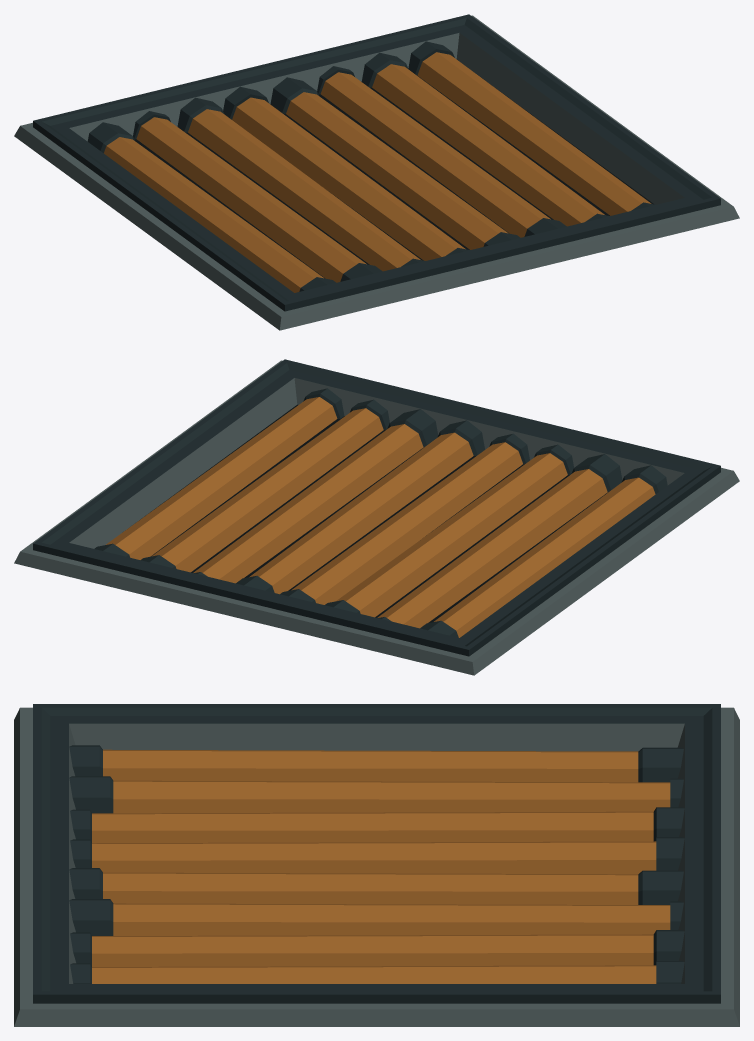
File: RoofTile_Pipes1.obj
The picture shows the model from 3 angles, top to bottom: view 1: azimuth 30°, elevation 25°; view 2: azimuth 150°, elevation 25°; view 3: azimuth 270°, elevation 25°; orthographic projection. The views are drawn at different scales.
Parts seen in each view (by area): view 1: RoofTile_Pipes1; view 2: RoofTile_Pipes1; view 3: RoofTile_Pipes1.
Boxes of the visible parts, left/top/right/bottom form: RoofTile_Pipes1: left=14, top=14, right=739, bottom=330; RoofTile_Pipes1: left=14, top=359, right=739, bottom=675; RoofTile_Pipes1: left=14, top=704, right=739, bottom=1026.
Size of the model in its own units: 2 by 0.1133 by 2.
